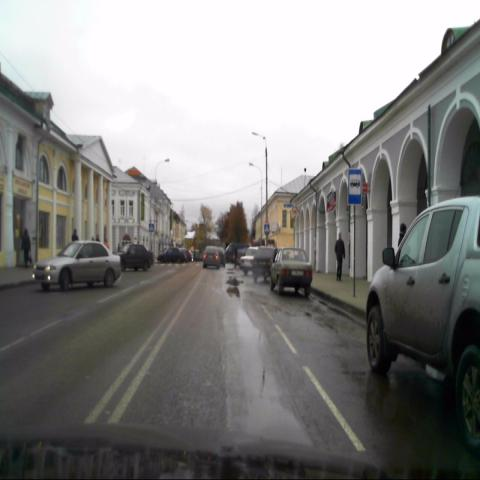5_16: (347, 168, 362, 205)
